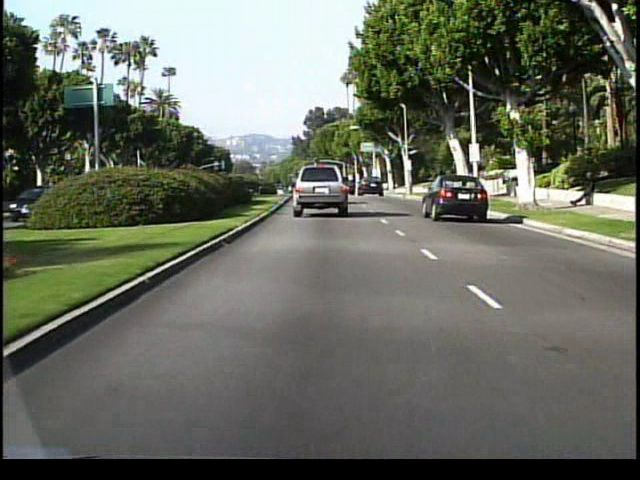person: (573, 168, 600, 212)
